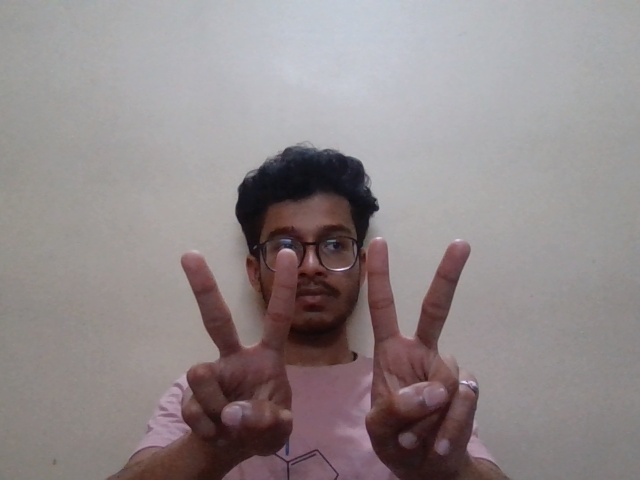take-care: (157, 226, 499, 464)
